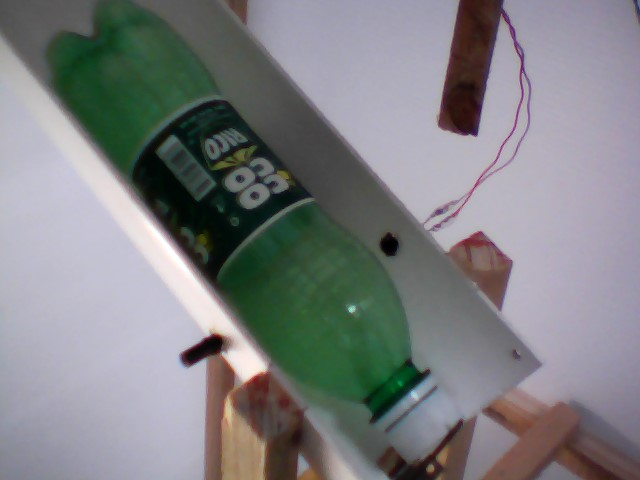plastico: (33, 1, 471, 459)
